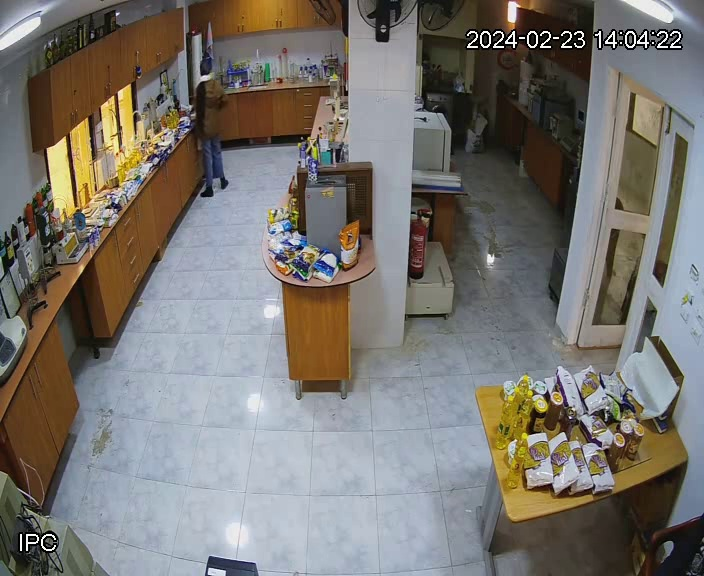Shoplifting: (195, 77, 229, 196)
